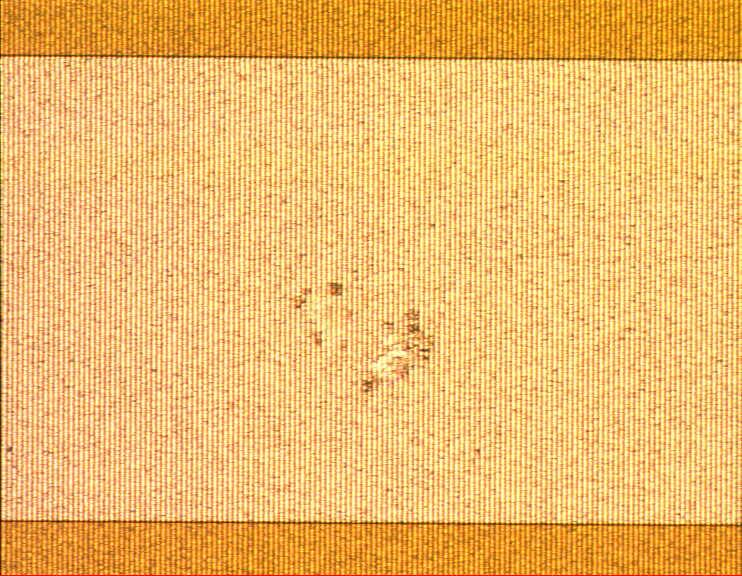SCRATCH: (279, 264, 442, 409)
